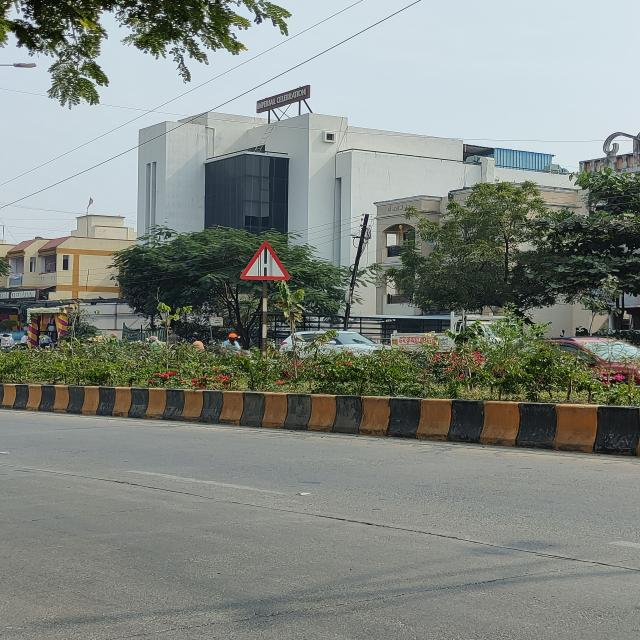ferry: (240, 242, 292, 282)
